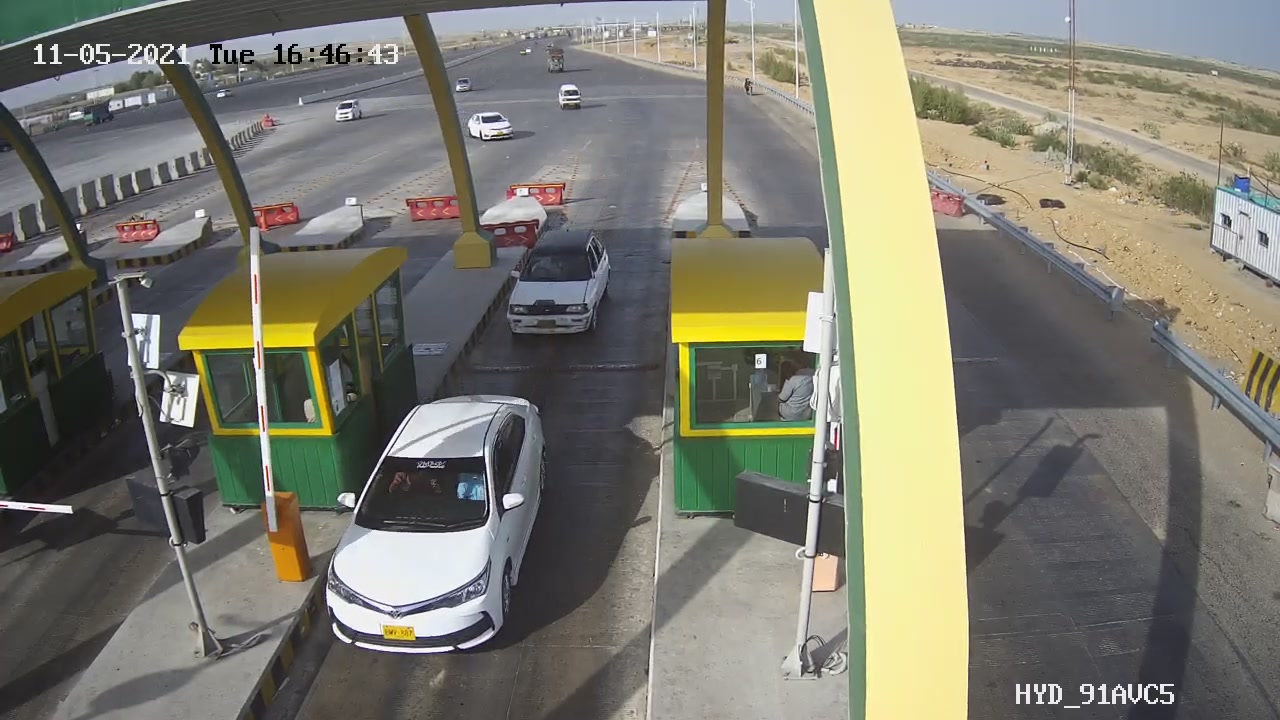F1: (486, 213, 630, 355)
